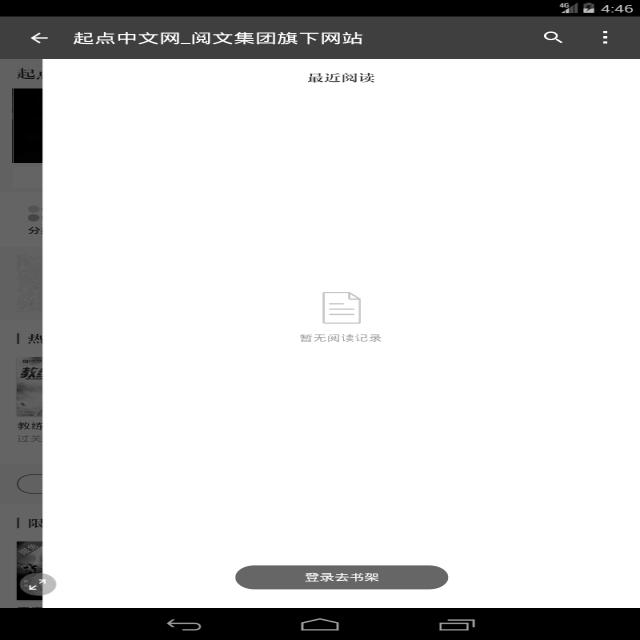Button: (222, 560, 458, 594)
ImageButton: (534, 28, 576, 49), (586, 27, 622, 50), (20, 28, 54, 48)
ImageView: (308, 274, 380, 328)
TextView: (70, 28, 376, 52), (296, 64, 395, 89), (290, 332, 400, 348)
